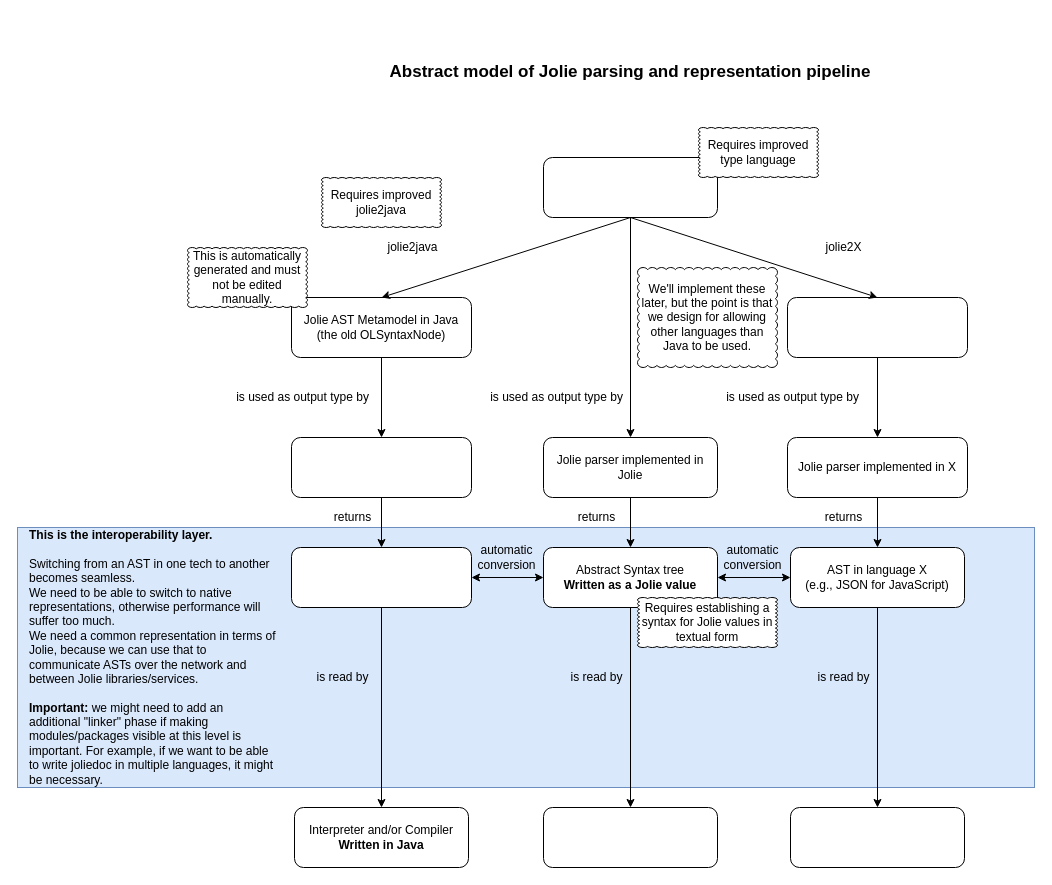
This 1052x885 diagram has some shape labels left out. Each missing label, with the box of its shape:
AST in Java (objects): (290, 546, 472, 608)
Interpreter and/or Compiler Written in Jolie: (542, 806, 718, 868)
Interpreter and/or Compiler Written in language X: (790, 806, 964, 868)
Jolie AST Metamodel in foreign language X (e.g., C#, JavaScript, whatever): (786, 296, 968, 358)
Jolie AST Metamodel Written as Jolie types: (542, 156, 718, 218)
Jolie parser implemented in Java: (290, 436, 472, 498)
